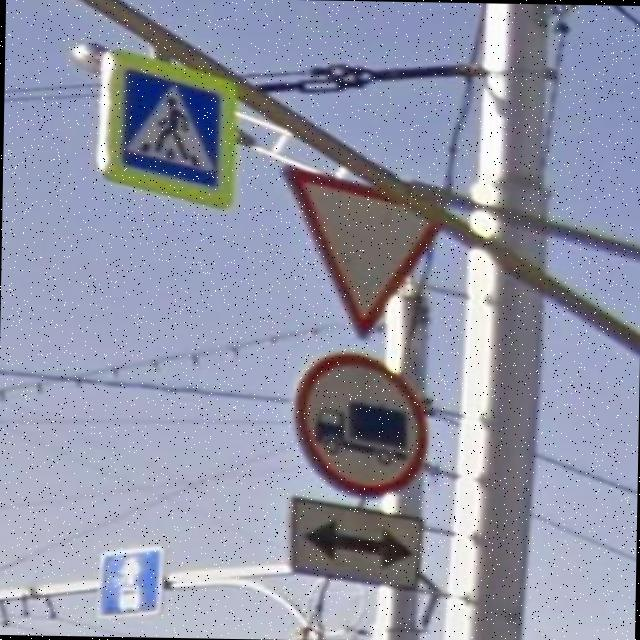Ustap pierwszenstwa: (278, 162, 448, 338)
